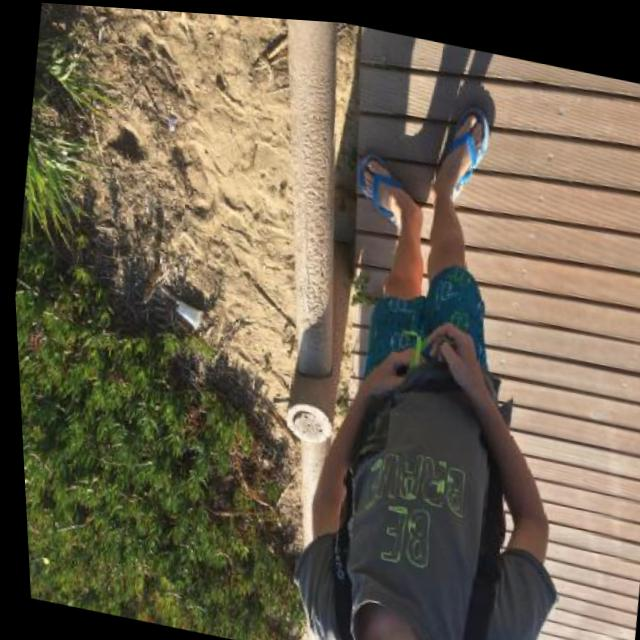cardboard: (176, 300, 206, 330)
